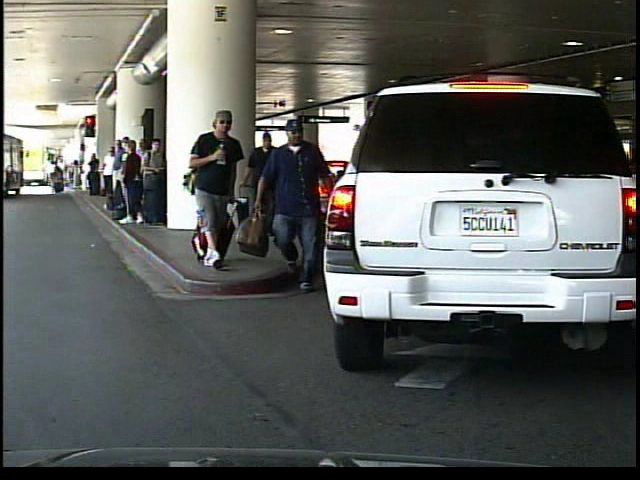person: (252, 100, 327, 286), (187, 104, 245, 271), (246, 135, 286, 240)
